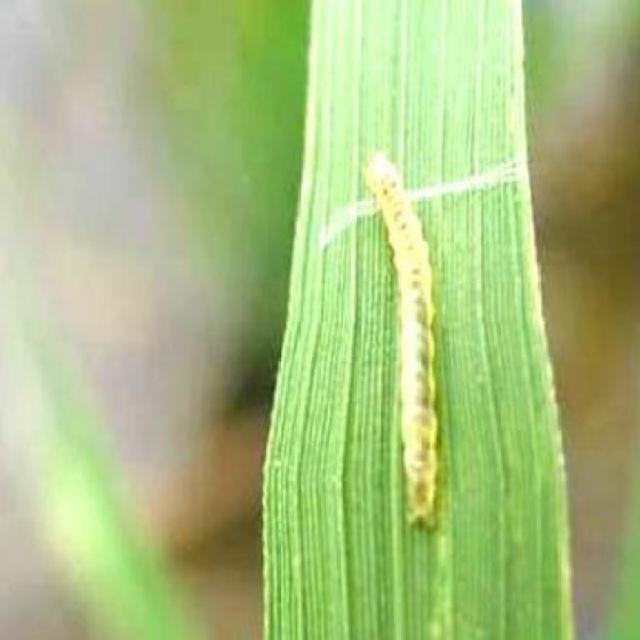leaf-folder: (349, 134, 457, 531)
